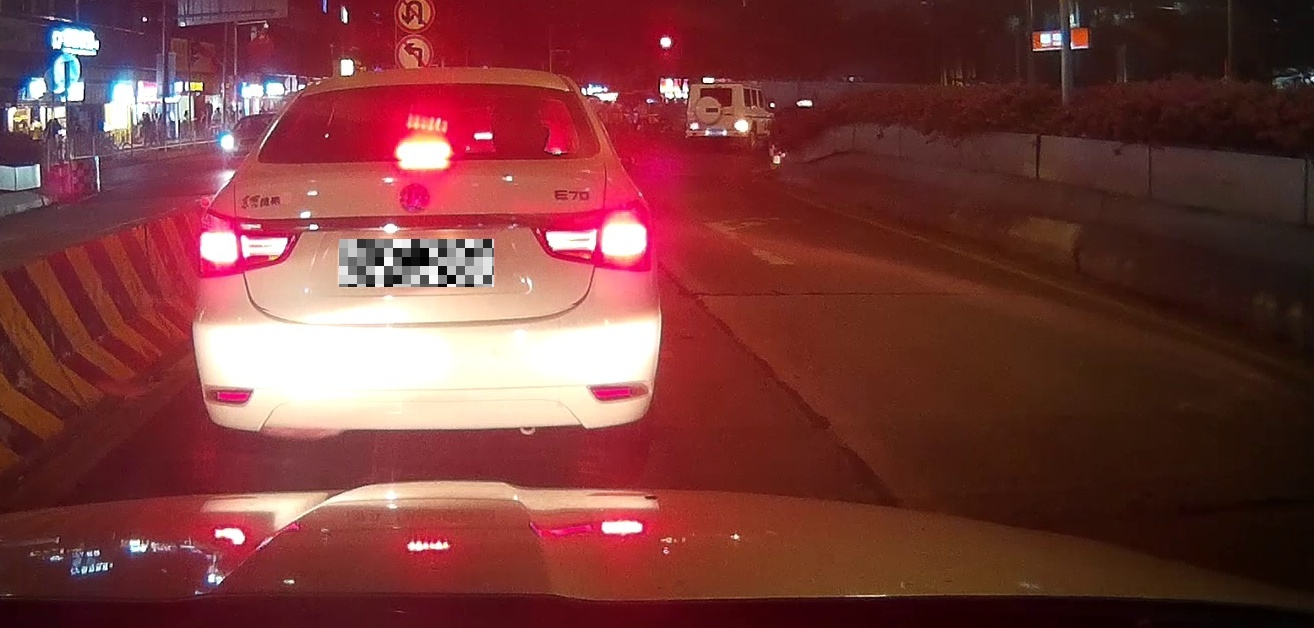L_light: (195, 206, 304, 279), (689, 122, 699, 130)
R_light: (528, 198, 654, 272), (734, 120, 748, 132)
T_light: (394, 139, 452, 160), (710, 88, 719, 90)
night-brake: (192, 65, 661, 437)
night-right: (685, 83, 749, 148)
plate_1: (339, 239, 494, 287)
